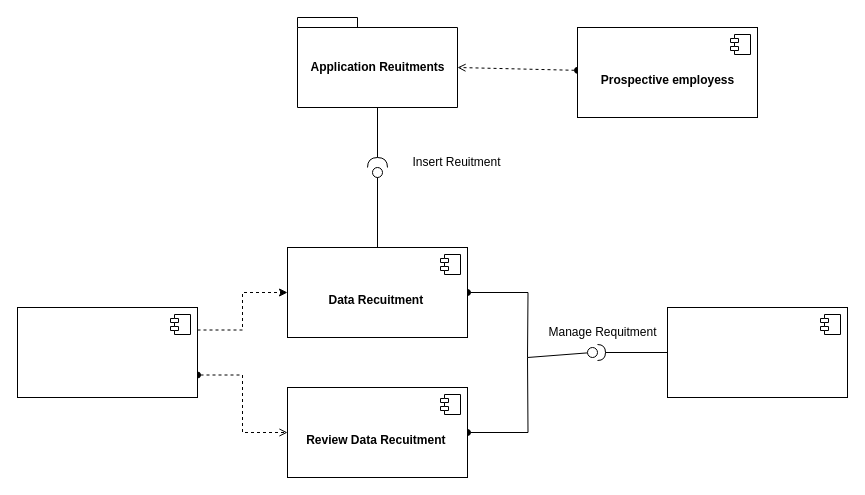
This 865x495 diagram has some shape labels left out. The centre of each missing label's shape, as x and y in pixels:
HRD: pixel 757 352
IT Company Recuitment System: pixel 107 352
